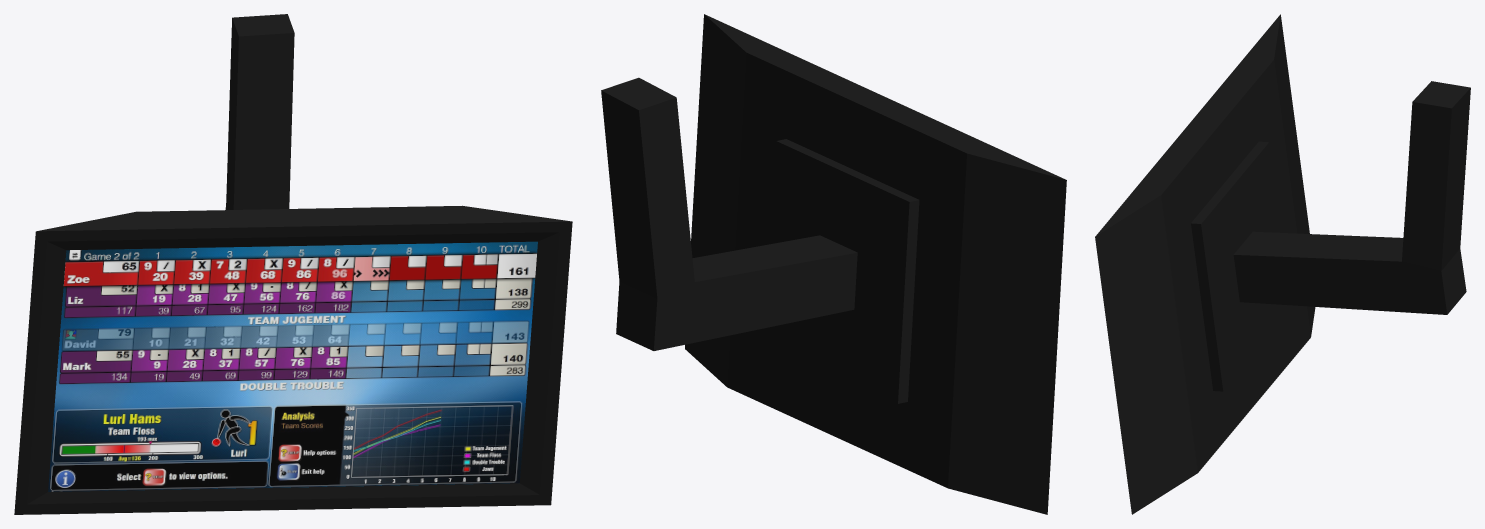
Rendered from bowl_tv.glb.
3 renders of one model, left to right at view 1: azimuth 30°, elevation 25°; view 2: azimuth 150°, elevation 25°; view 3: azimuth 270°, elevation 25°, orthographic. The views are drawn at different scales.
Parts seen in each view (by area): view 1: bowl_tv; view 2: bowl_tv; view 3: bowl_tv.
Part boxes in pixels (x1=…): bowl_tv: x1=14, y1=14, x2=572, y2=514; bowl_tv: x1=601, y1=14, x2=1066, y2=514; bowl_tv: x1=1095, y1=14, x2=1470, y2=514.
Bounding box in the file's own units: 1.29 × 1.09 × 1.02.
2 materials, 1 textured.
